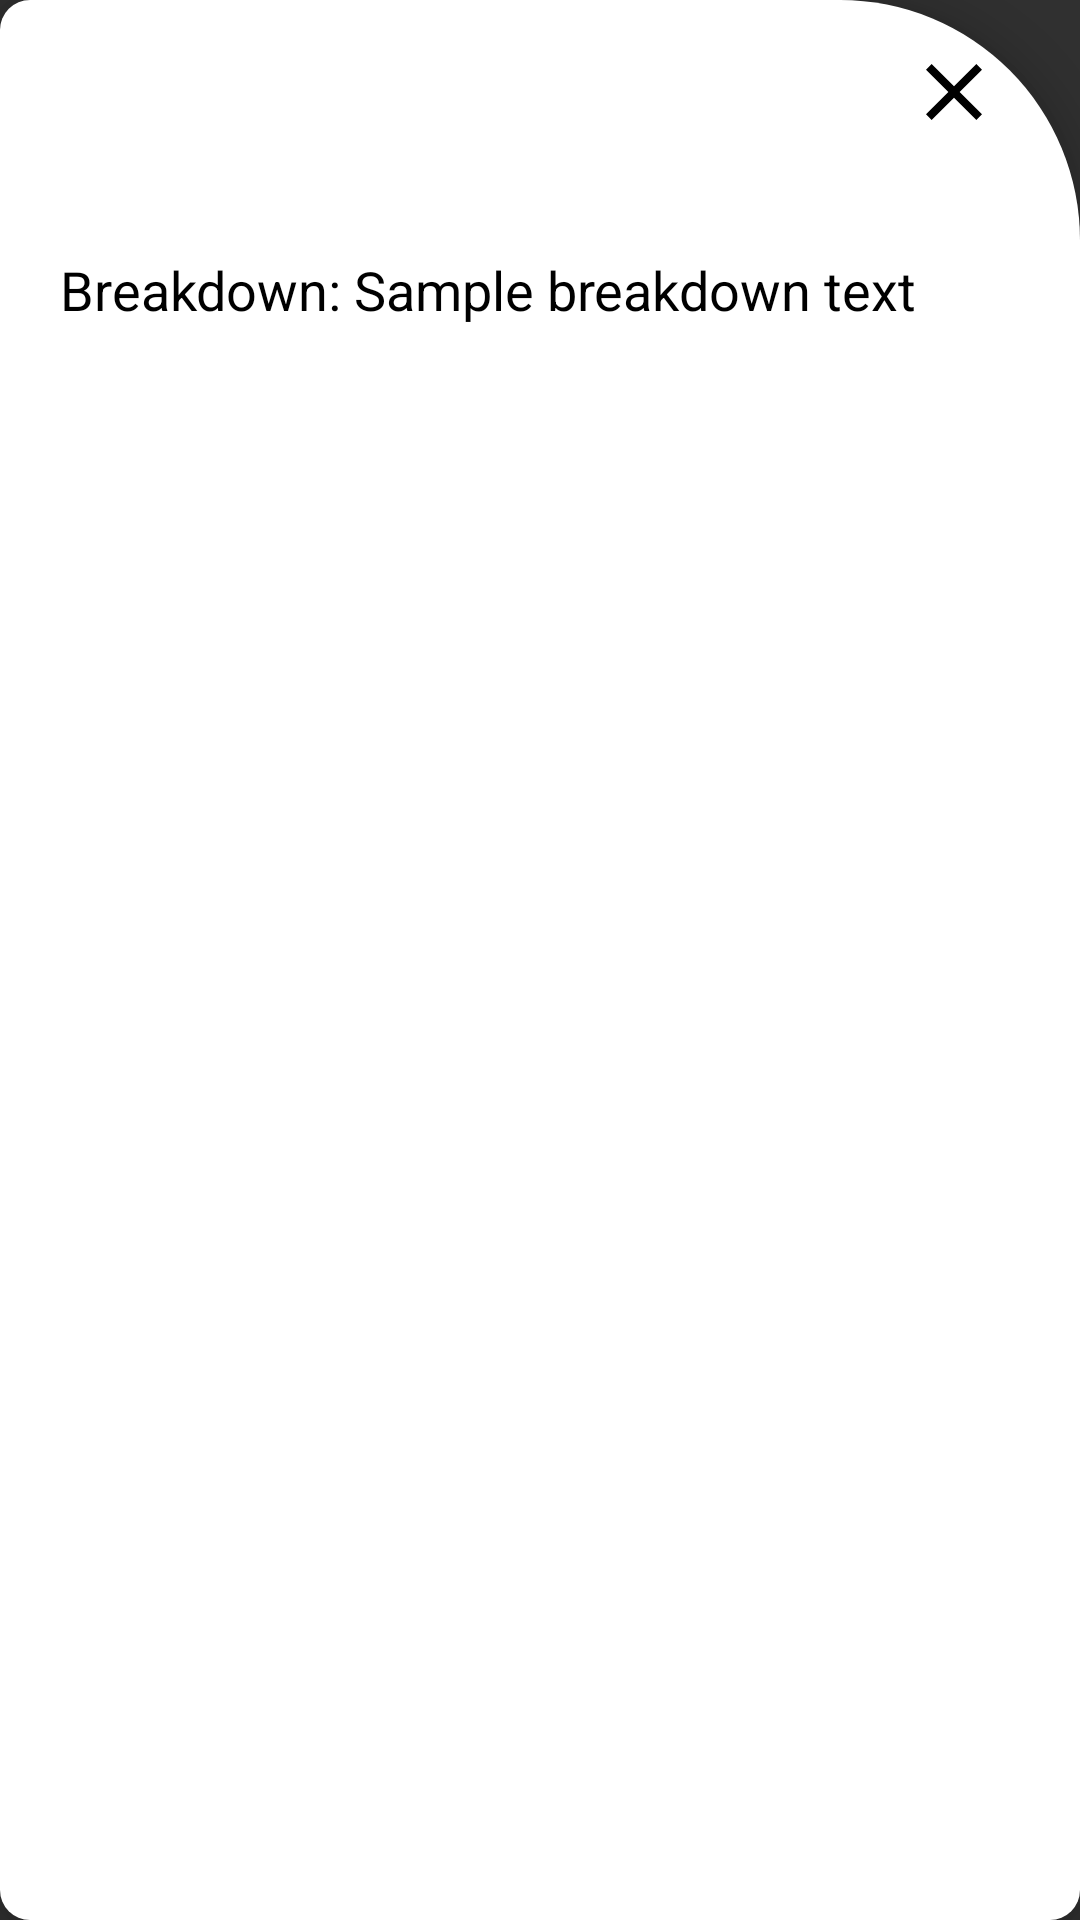

Icons on this 1080w x 1920h Android screen, each with its box as (x1, y1, x2, y2):
closewindow: (926, 64, 982, 120)
